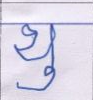u_matra: (16, 67, 59, 92)
